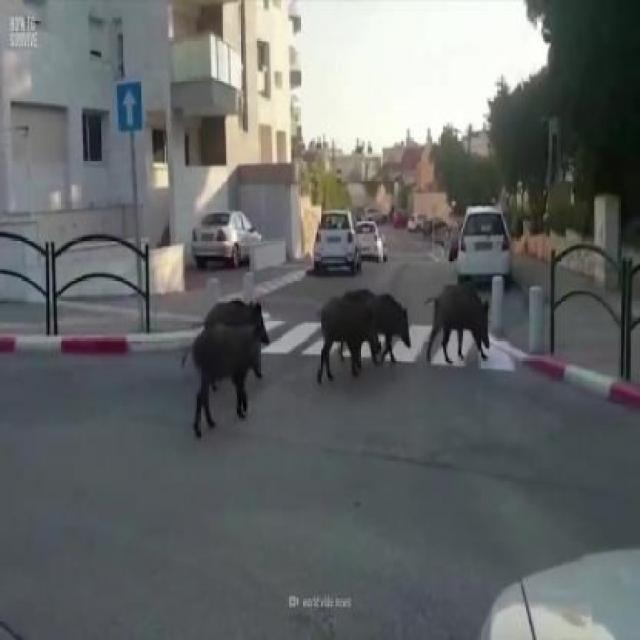pig: (422, 260, 494, 401), (306, 274, 381, 396), (194, 323, 272, 422), (202, 280, 274, 348), (368, 283, 414, 363)
